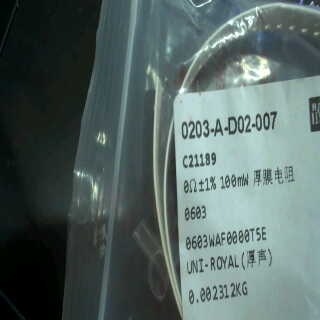0R: (182, 171, 250, 225)
